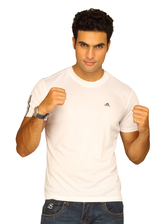clothoes: (18, 62, 136, 205)
